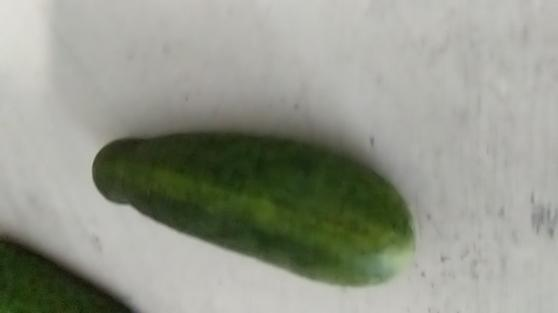cucumber: (89, 131, 417, 288)
